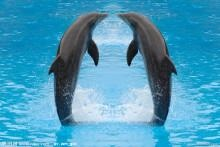fish: (116, 10, 178, 130), (47, 10, 108, 127)
